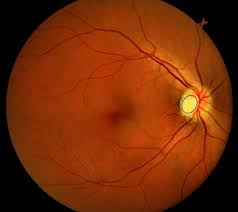Glaucoma section-1: (183, 96, 196, 111)
Glaucoma section-2: (180, 86, 214, 123)
